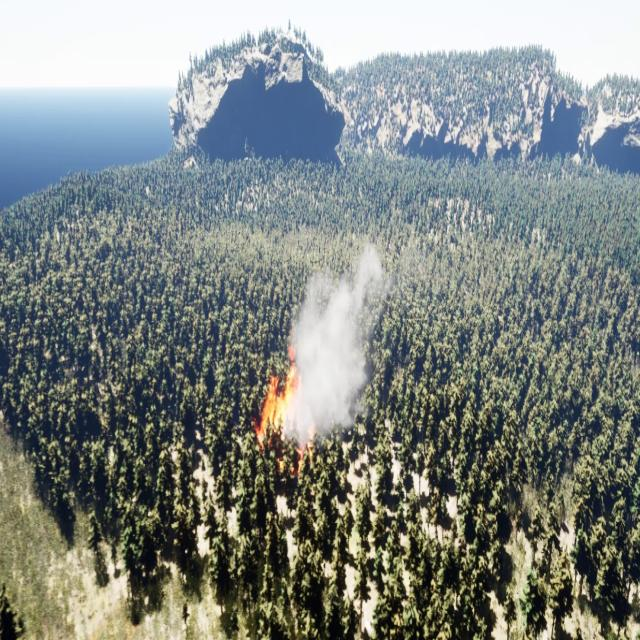fire: (253, 340, 314, 481)
smoke: (284, 242, 387, 444)
